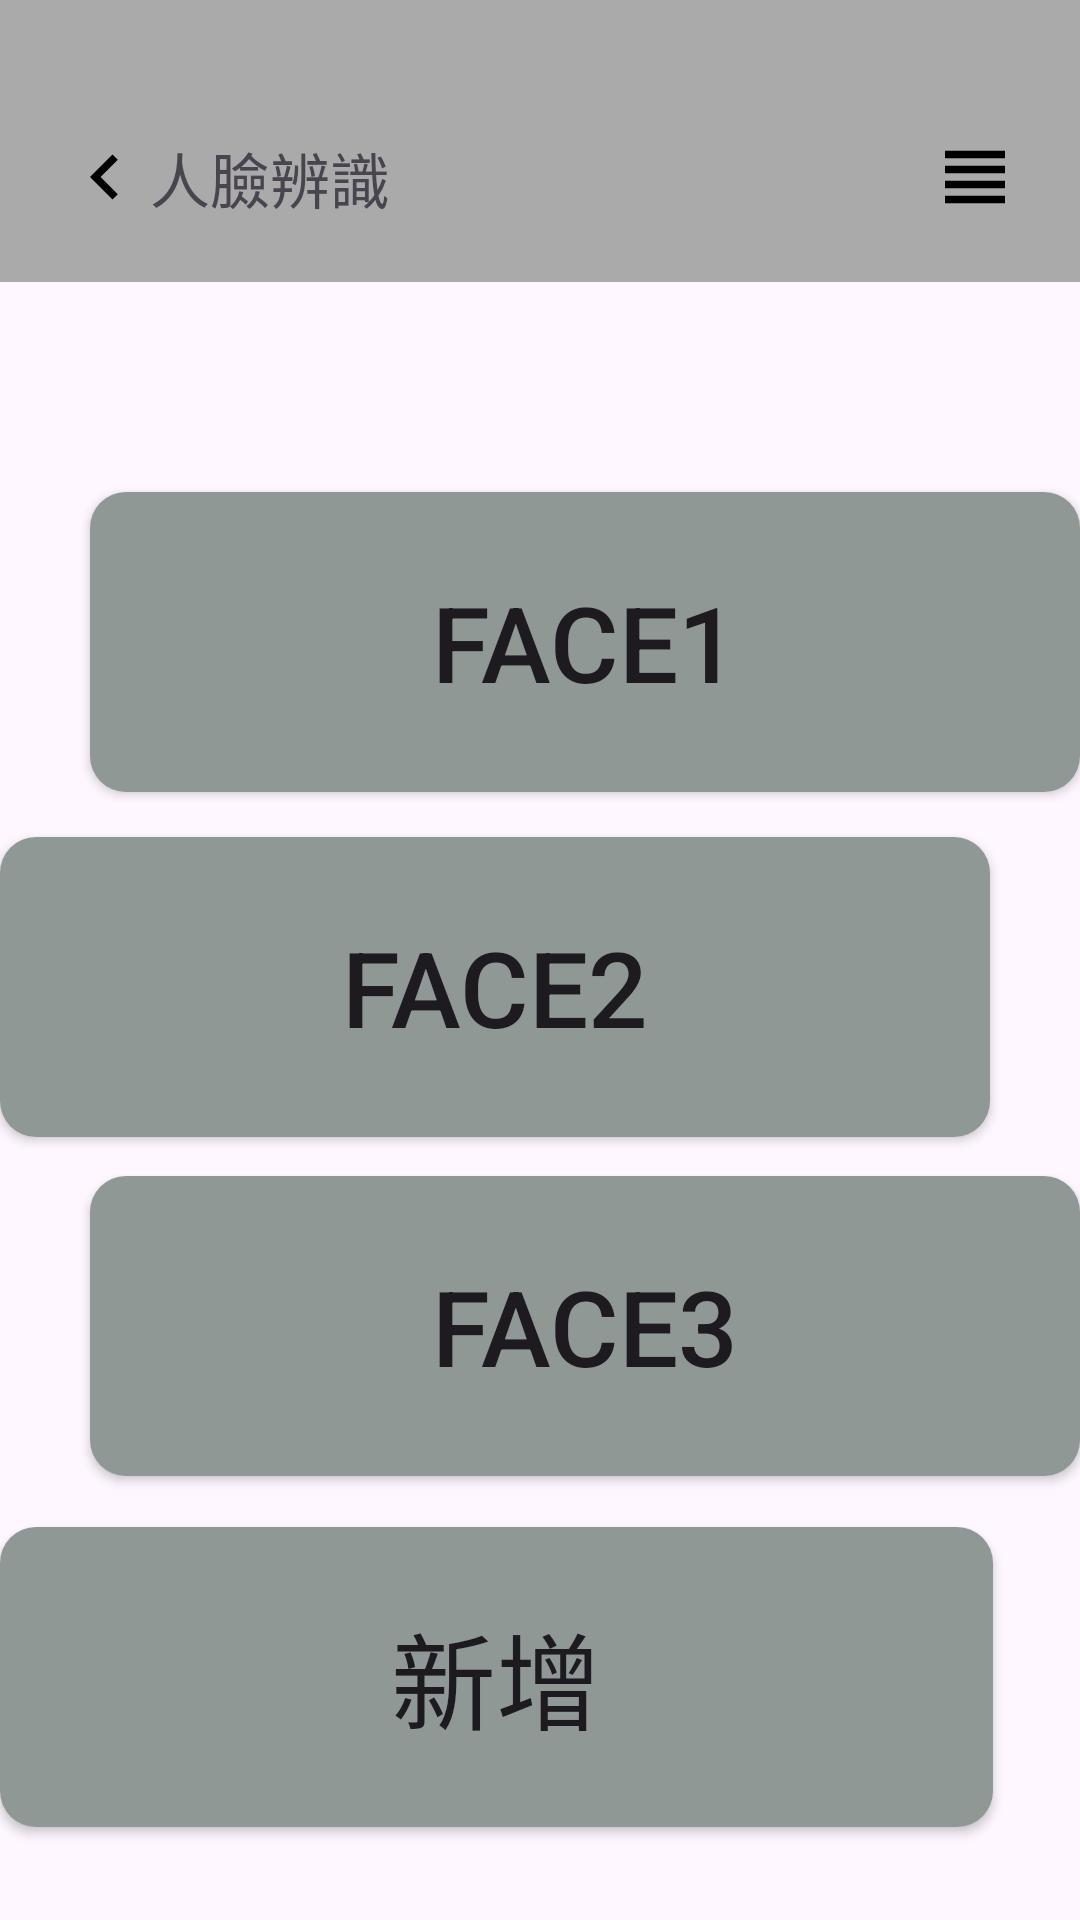

Locate icon controls on the screen. Image size 1080×1920, boxes as (x1, y1, x2, y2).
上一頁: (90, 154, 118, 200)
其他: (945, 150, 1005, 204)
